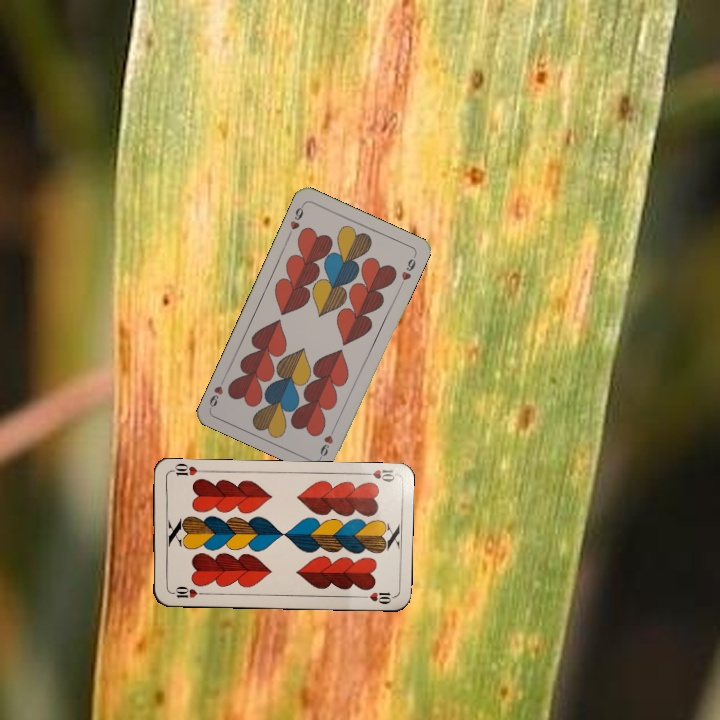H10: (166, 583, 207, 601), (357, 466, 398, 484)
H9: (284, 200, 307, 239), (316, 422, 339, 460)
